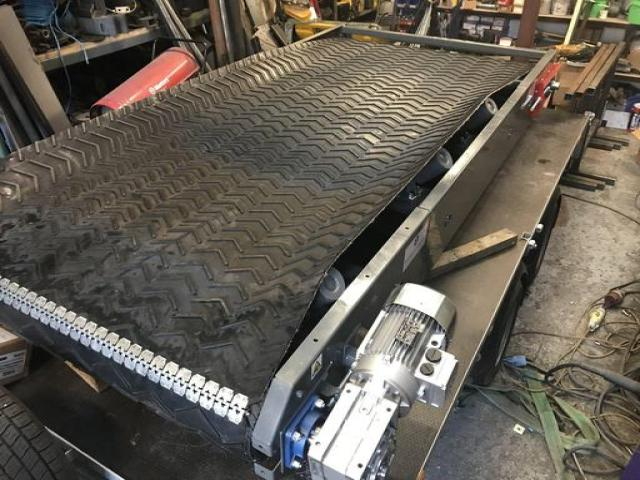conveyor: (0, 25, 559, 456)
